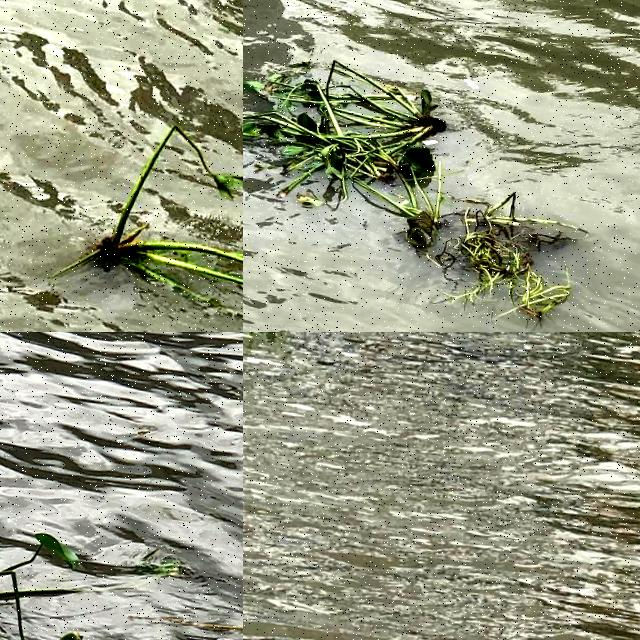water-hyacinth: (244, 42, 600, 333), (48, 107, 244, 333), (1, 511, 132, 640)
